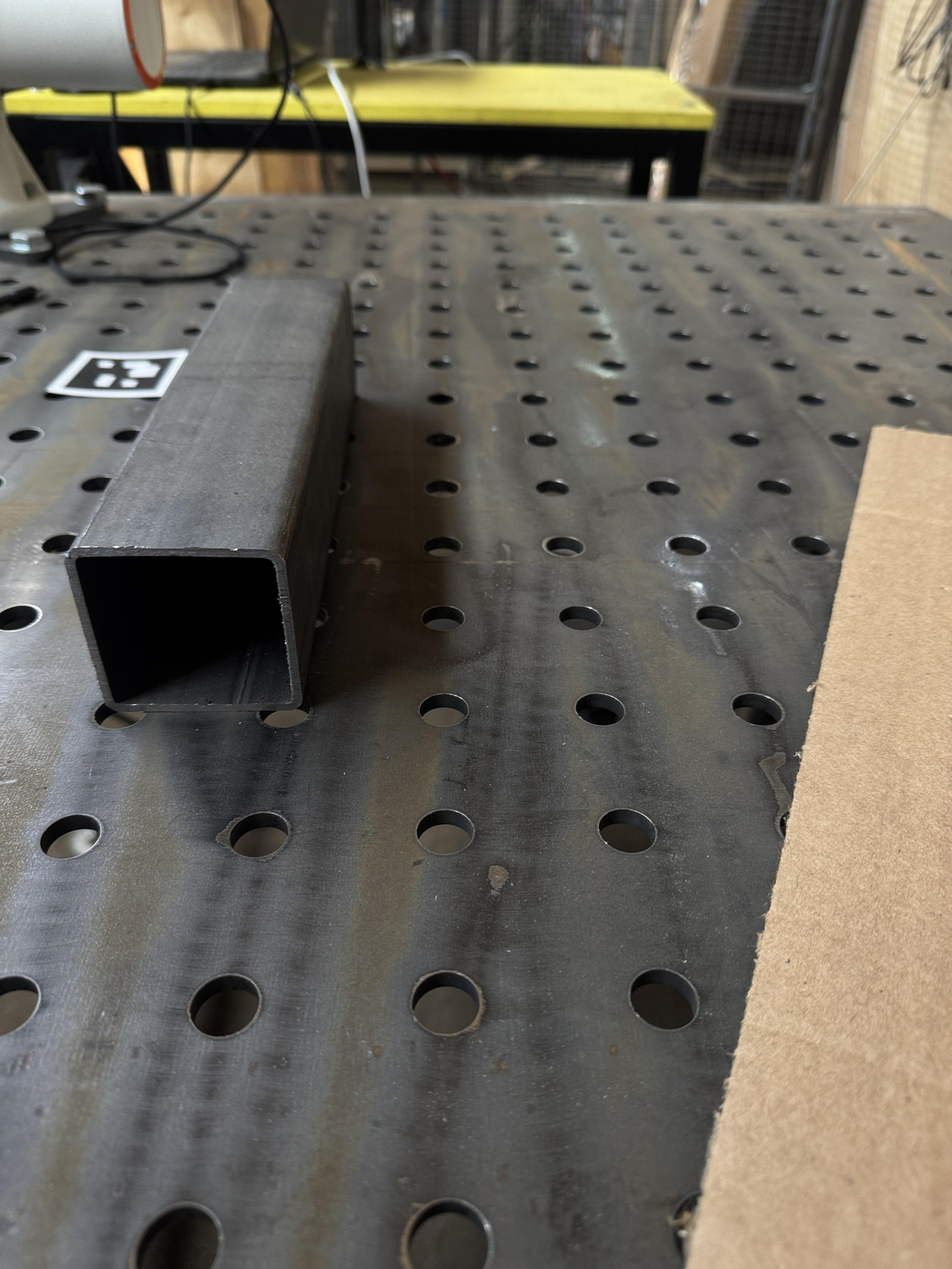detail: (65, 276, 356, 713)
